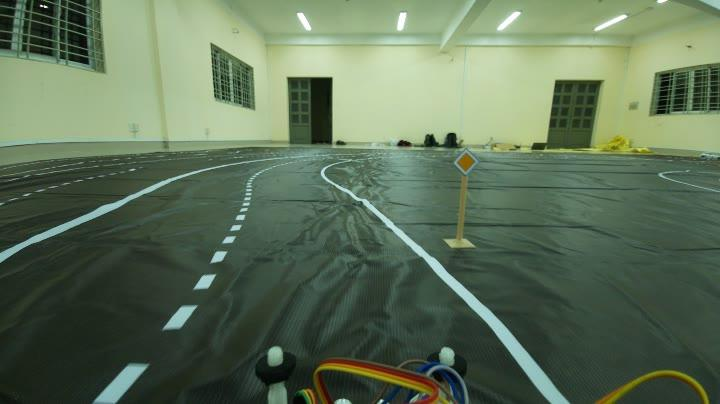priority: (447, 143, 480, 182)
